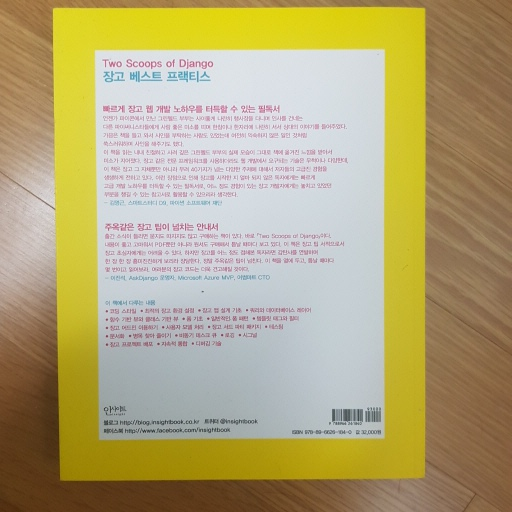Paper_0: (37, 1, 448, 495)
